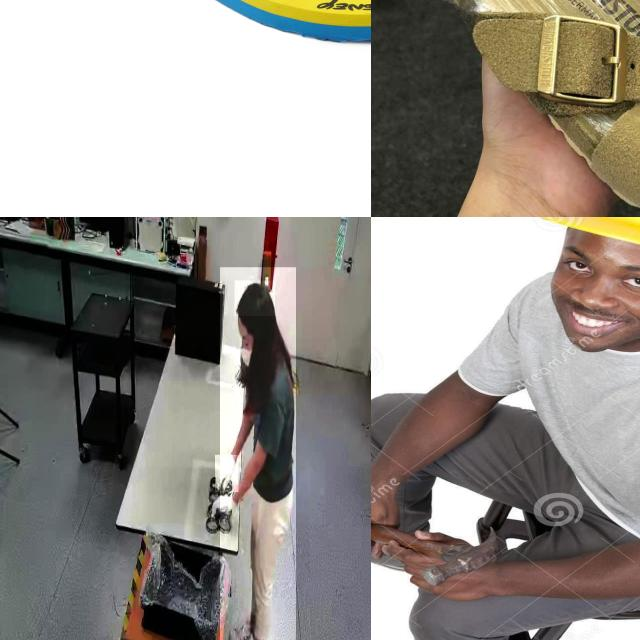No_Glasses: (547, 237, 640, 305)
Sandals: (371, 0, 640, 217)
face_mask: (238, 329, 256, 373)
hand_glove: (215, 455, 239, 492), (211, 491, 235, 527)
head_nohelmet: (234, 281, 276, 317)
person: (219, 267, 296, 640)
shoes: (228, 611, 261, 640)
